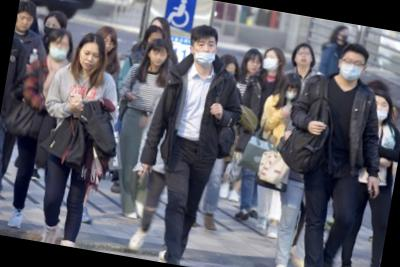mask_weared_incorrect: (190, 38, 221, 69), (47, 37, 73, 65), (371, 99, 392, 123)
with_mask: (339, 56, 365, 83), (260, 53, 282, 75), (43, 20, 63, 42), (285, 85, 301, 103)
without_mask: (77, 46, 103, 73), (147, 48, 168, 69), (295, 48, 316, 69), (16, 14, 35, 34), (101, 37, 118, 56), (246, 58, 262, 76)
